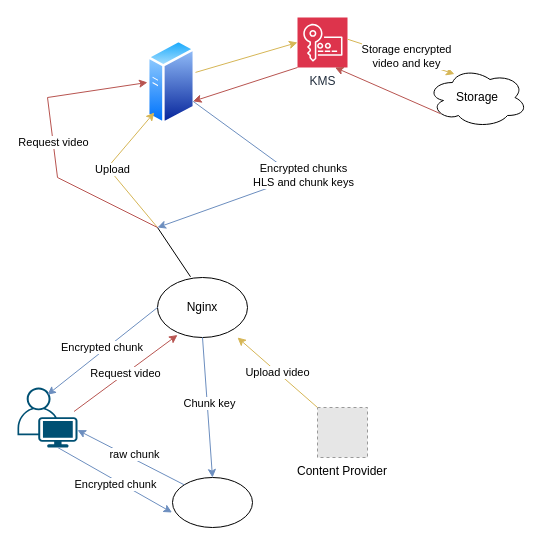
Some shapes in this 545 by 545 pixel diagram are drawn without their labels. Grey dashed boxes stand in for pictures. Each missing label, with the centre of its shape:
"Encrypt and transmit" goes at pixel 171 82.
"Trusted decryptor" goes at pixel 212 502.
